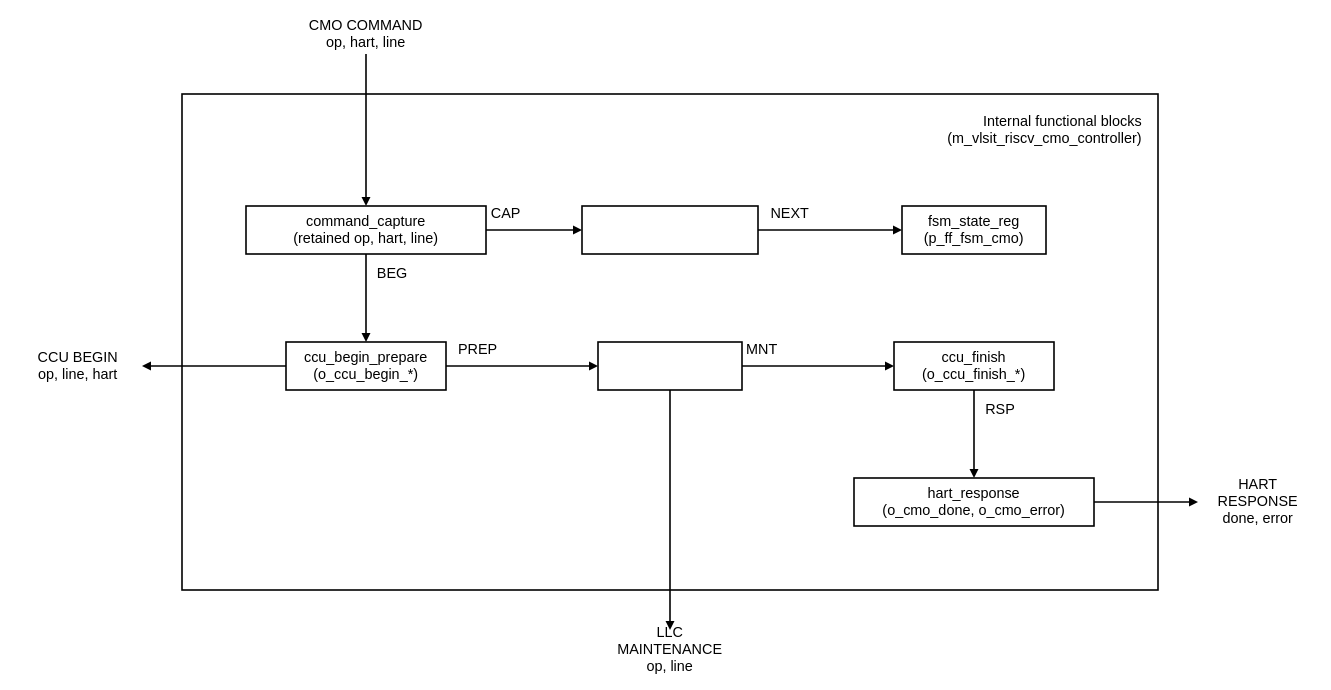
This 1331x690 diagram has some shape labels left out. Here are the shapes that lost their labels. From the top down, the centre of each, then its label:
At pixel 669 229: "fsm_next_state (p_com_fsm_cmo_nxt)".
At pixel 669 365: "llc_maintenance (o_maint_*)".
